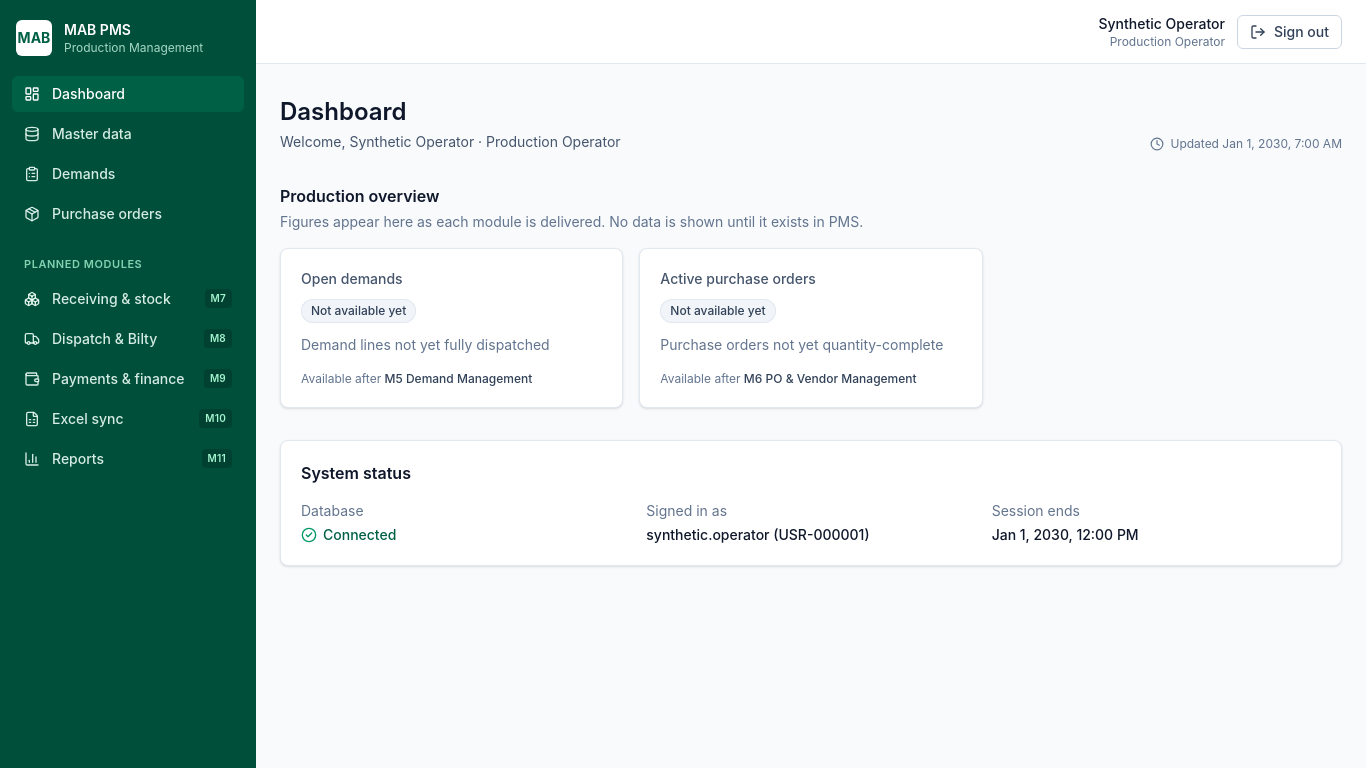
layout and navigation › signs out with the CSRF token and returns to the sign-in page
What coordinates should you click on to do the following:
click the button "Sign out"
I would click on:
 (1290, 32)
Its box is [1237,14,1342,48].
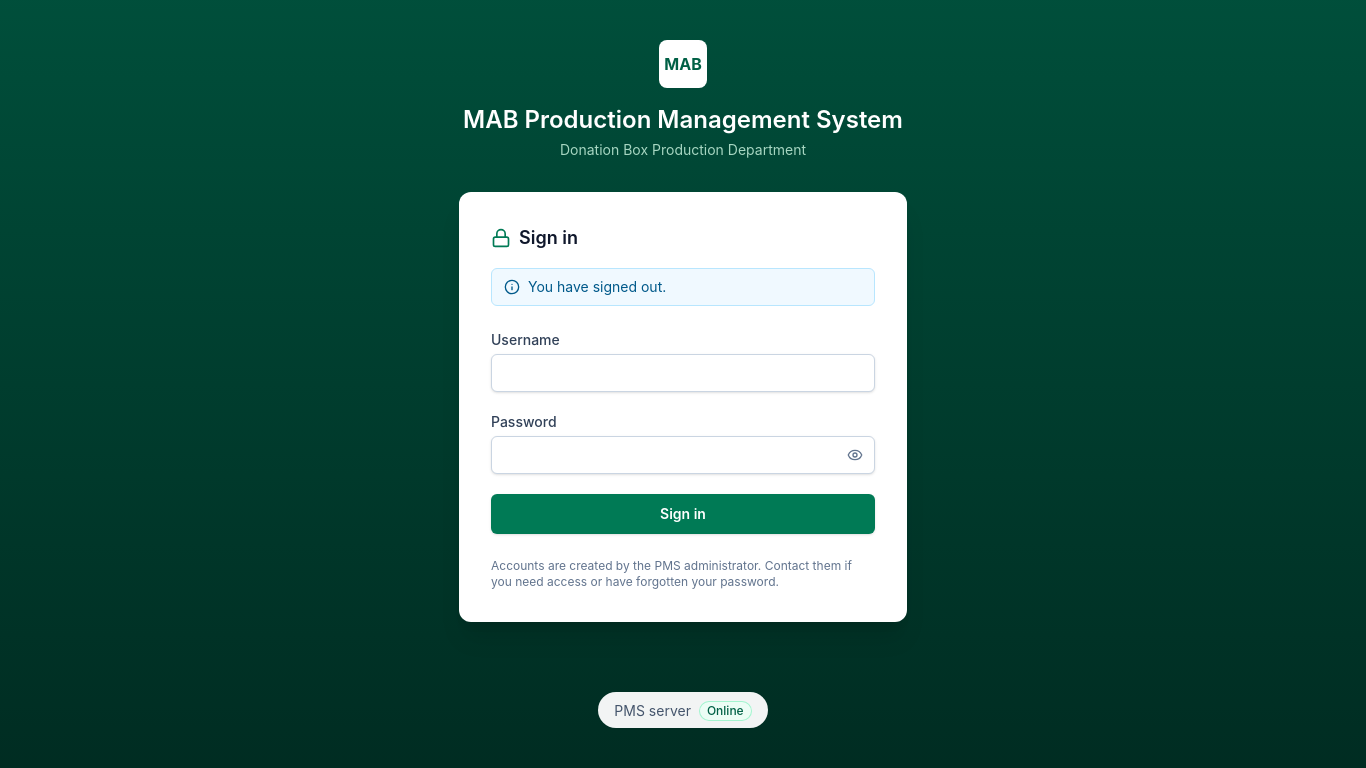
Result: the heading "Sign in" is shown at [491,227,578,248]
Result: the text "You have signed out." is shown at [528,277,666,297]
